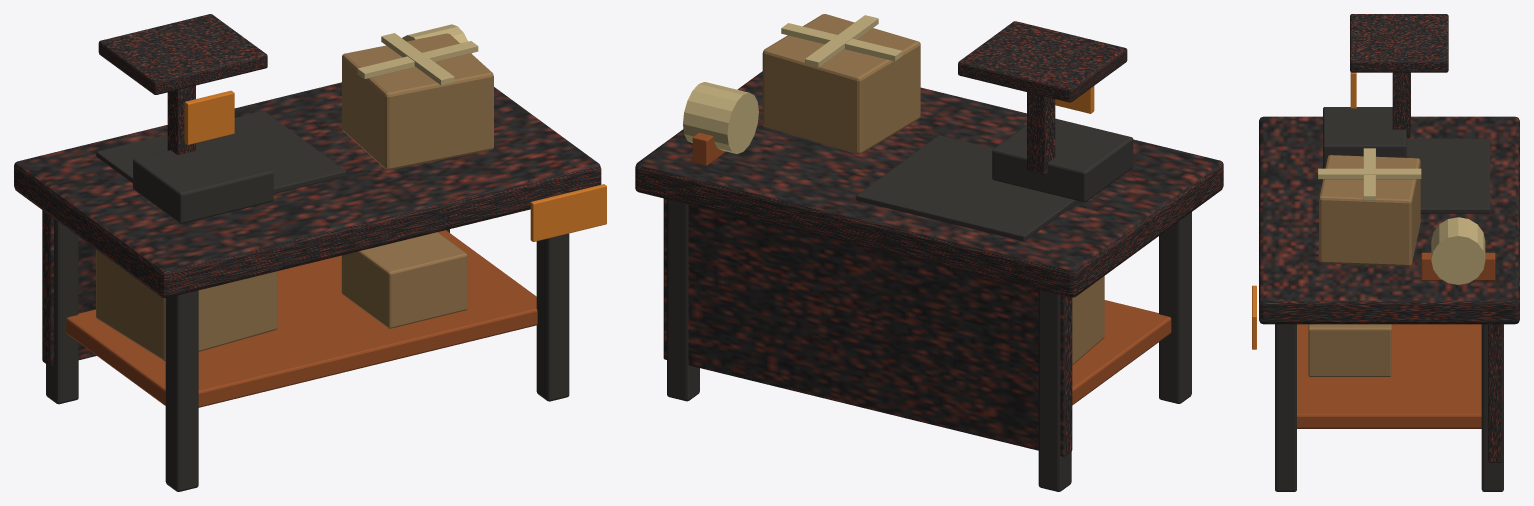
Rendered from packaging_bench.glb.
3 views of the same model, side by side, from view 1: azimuth 30°, elevation 25°; view 2: azimuth 150°, elevation 25°; view 3: azimuth 270°, elevation 25° (orthographic). The views are drawn at different scales.
Visible parts, largest first — view 1: Packaging worktop, Packaging lower shelf, Packed ration crate, Lower spare box, Crushed lower box, Scale tray, Scale base, Packaging bench leg, Packaging top patch, Packaging bench leg.002, Packaging bench leg.001, Packaging rear brace (+5 smaller); view 2: Packaging rear brace, Packaging worktop, Packed ration crate, Packaging top patch, Scale tray, Scale base, Packaging bench leg, Packaging bench leg.001, Packaging lower shelf, Packaging bench leg.003, Label paper spool, Scale upright (+4 smaller); view 3: Packaging worktop, Packaging lower shelf, Packed ration crate, Scale tray, Packaging top patch, Crushed lower box, Scale base, Packaging bench leg.002, Label paper spool, Packaging rear brace, Packaging bench leg.003, Parcel tape length (+4 smaller).
Boxes of the visible parts, bbox=[...] form: Packaging worktop: bbox=[14, 82, 601, 298]; Packaging lower shelf: bbox=[66, 230, 537, 407]; Packed ration crate: bbox=[342, 33, 493, 170]; Lower spare box: bbox=[96, 249, 277, 360]; Crushed lower box: bbox=[341, 232, 467, 328]; Scale tray: bbox=[98, 14, 267, 94]; Scale base: bbox=[133, 137, 273, 223]; Packaging bench leg: bbox=[165, 290, 198, 491]; Packaging top patch: bbox=[96, 111, 346, 193]; Packaging bench leg.002: bbox=[536, 233, 569, 401]; Packaging bench leg.001: bbox=[46, 219, 78, 404]; Packaging rear brace: bbox=[42, 210, 449, 366]; Packaging rear brace: bbox=[663, 198, 1072, 456]; Packaging worktop: bbox=[635, 71, 1223, 297]; Packed ration crate: bbox=[762, 14, 920, 154]; Packaging top patch: bbox=[856, 135, 1079, 241]; Scale tray: bbox=[958, 21, 1127, 102]; Scale base: bbox=[992, 118, 1133, 202]; Packaging bench leg: bbox=[1159, 212, 1191, 403]; Packaging bench leg.001: bbox=[1038, 290, 1071, 491]; Packaging lower shelf: bbox=[1072, 300, 1171, 405]; Packaging bench leg.003: bbox=[667, 199, 699, 401]; Label paper spool: bbox=[683, 82, 758, 153]; Scale upright: bbox=[1027, 92, 1055, 174]; Packaging worktop: bbox=[1259, 116, 1519, 324]; Packaging lower shelf: bbox=[1297, 324, 1481, 428]; Packed ration crate: bbox=[1319, 155, 1420, 266]; Scale tray: bbox=[1350, 14, 1448, 72]; Packaging top patch: bbox=[1406, 138, 1490, 213]; Crushed lower box: bbox=[1308, 324, 1391, 376]; Scale base: bbox=[1323, 107, 1406, 168]; Packaging bench leg.002: bbox=[1275, 324, 1296, 491]; Label paper spool: bbox=[1431, 217, 1485, 284]; Packaging rear brace: bbox=[1488, 324, 1502, 462]; Packaging bench leg.003: bbox=[1481, 324, 1503, 491]; Parcel tape length: bbox=[1318, 168, 1421, 179].
Bounding box in the file's own units: 1.78 × 1.45 × 1.09.
Materials: 6 (1 with a texture image).
